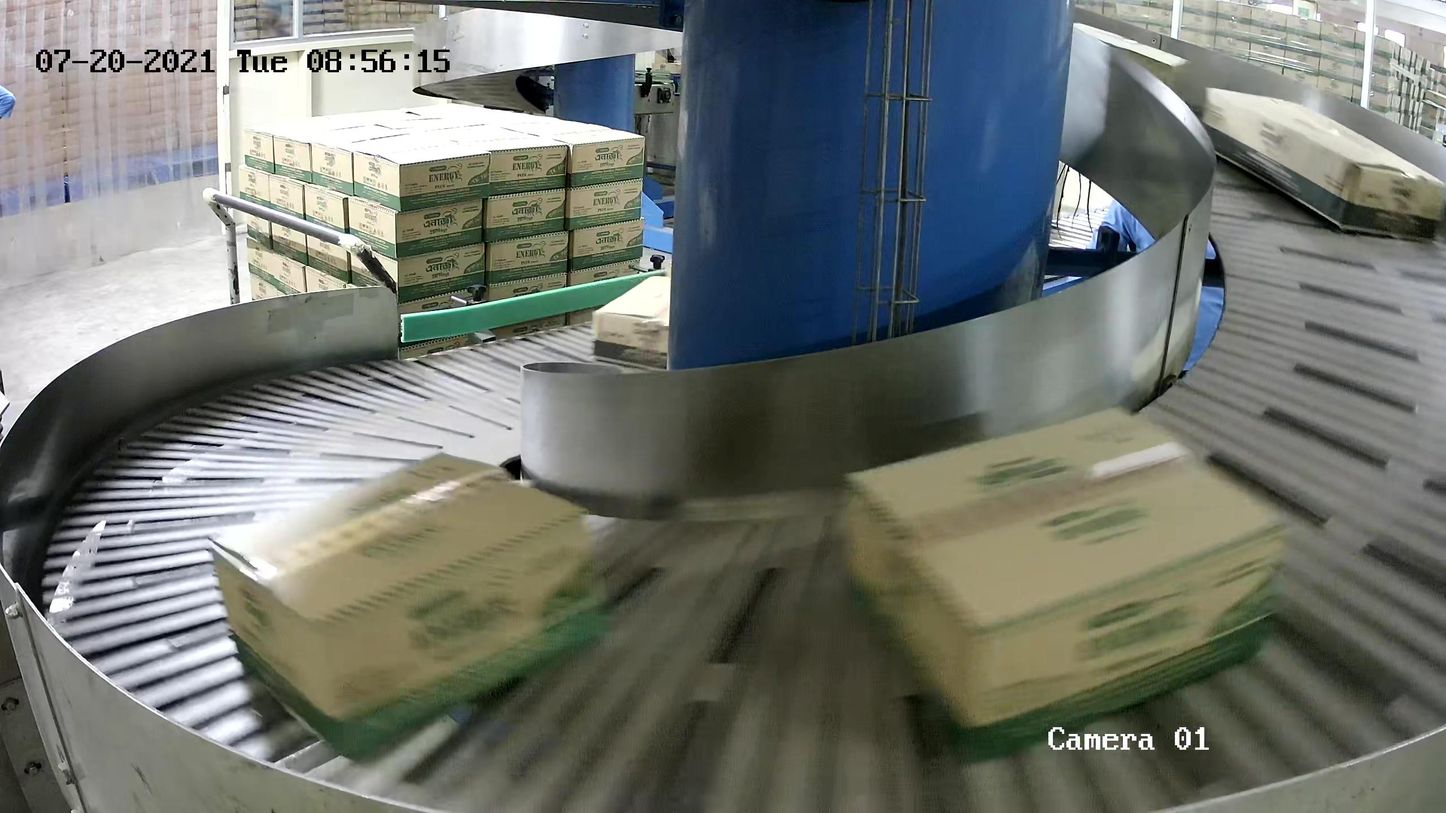Box: (833, 405, 1285, 764), (210, 449, 610, 770), (1195, 86, 1446, 247), (592, 273, 723, 381)
